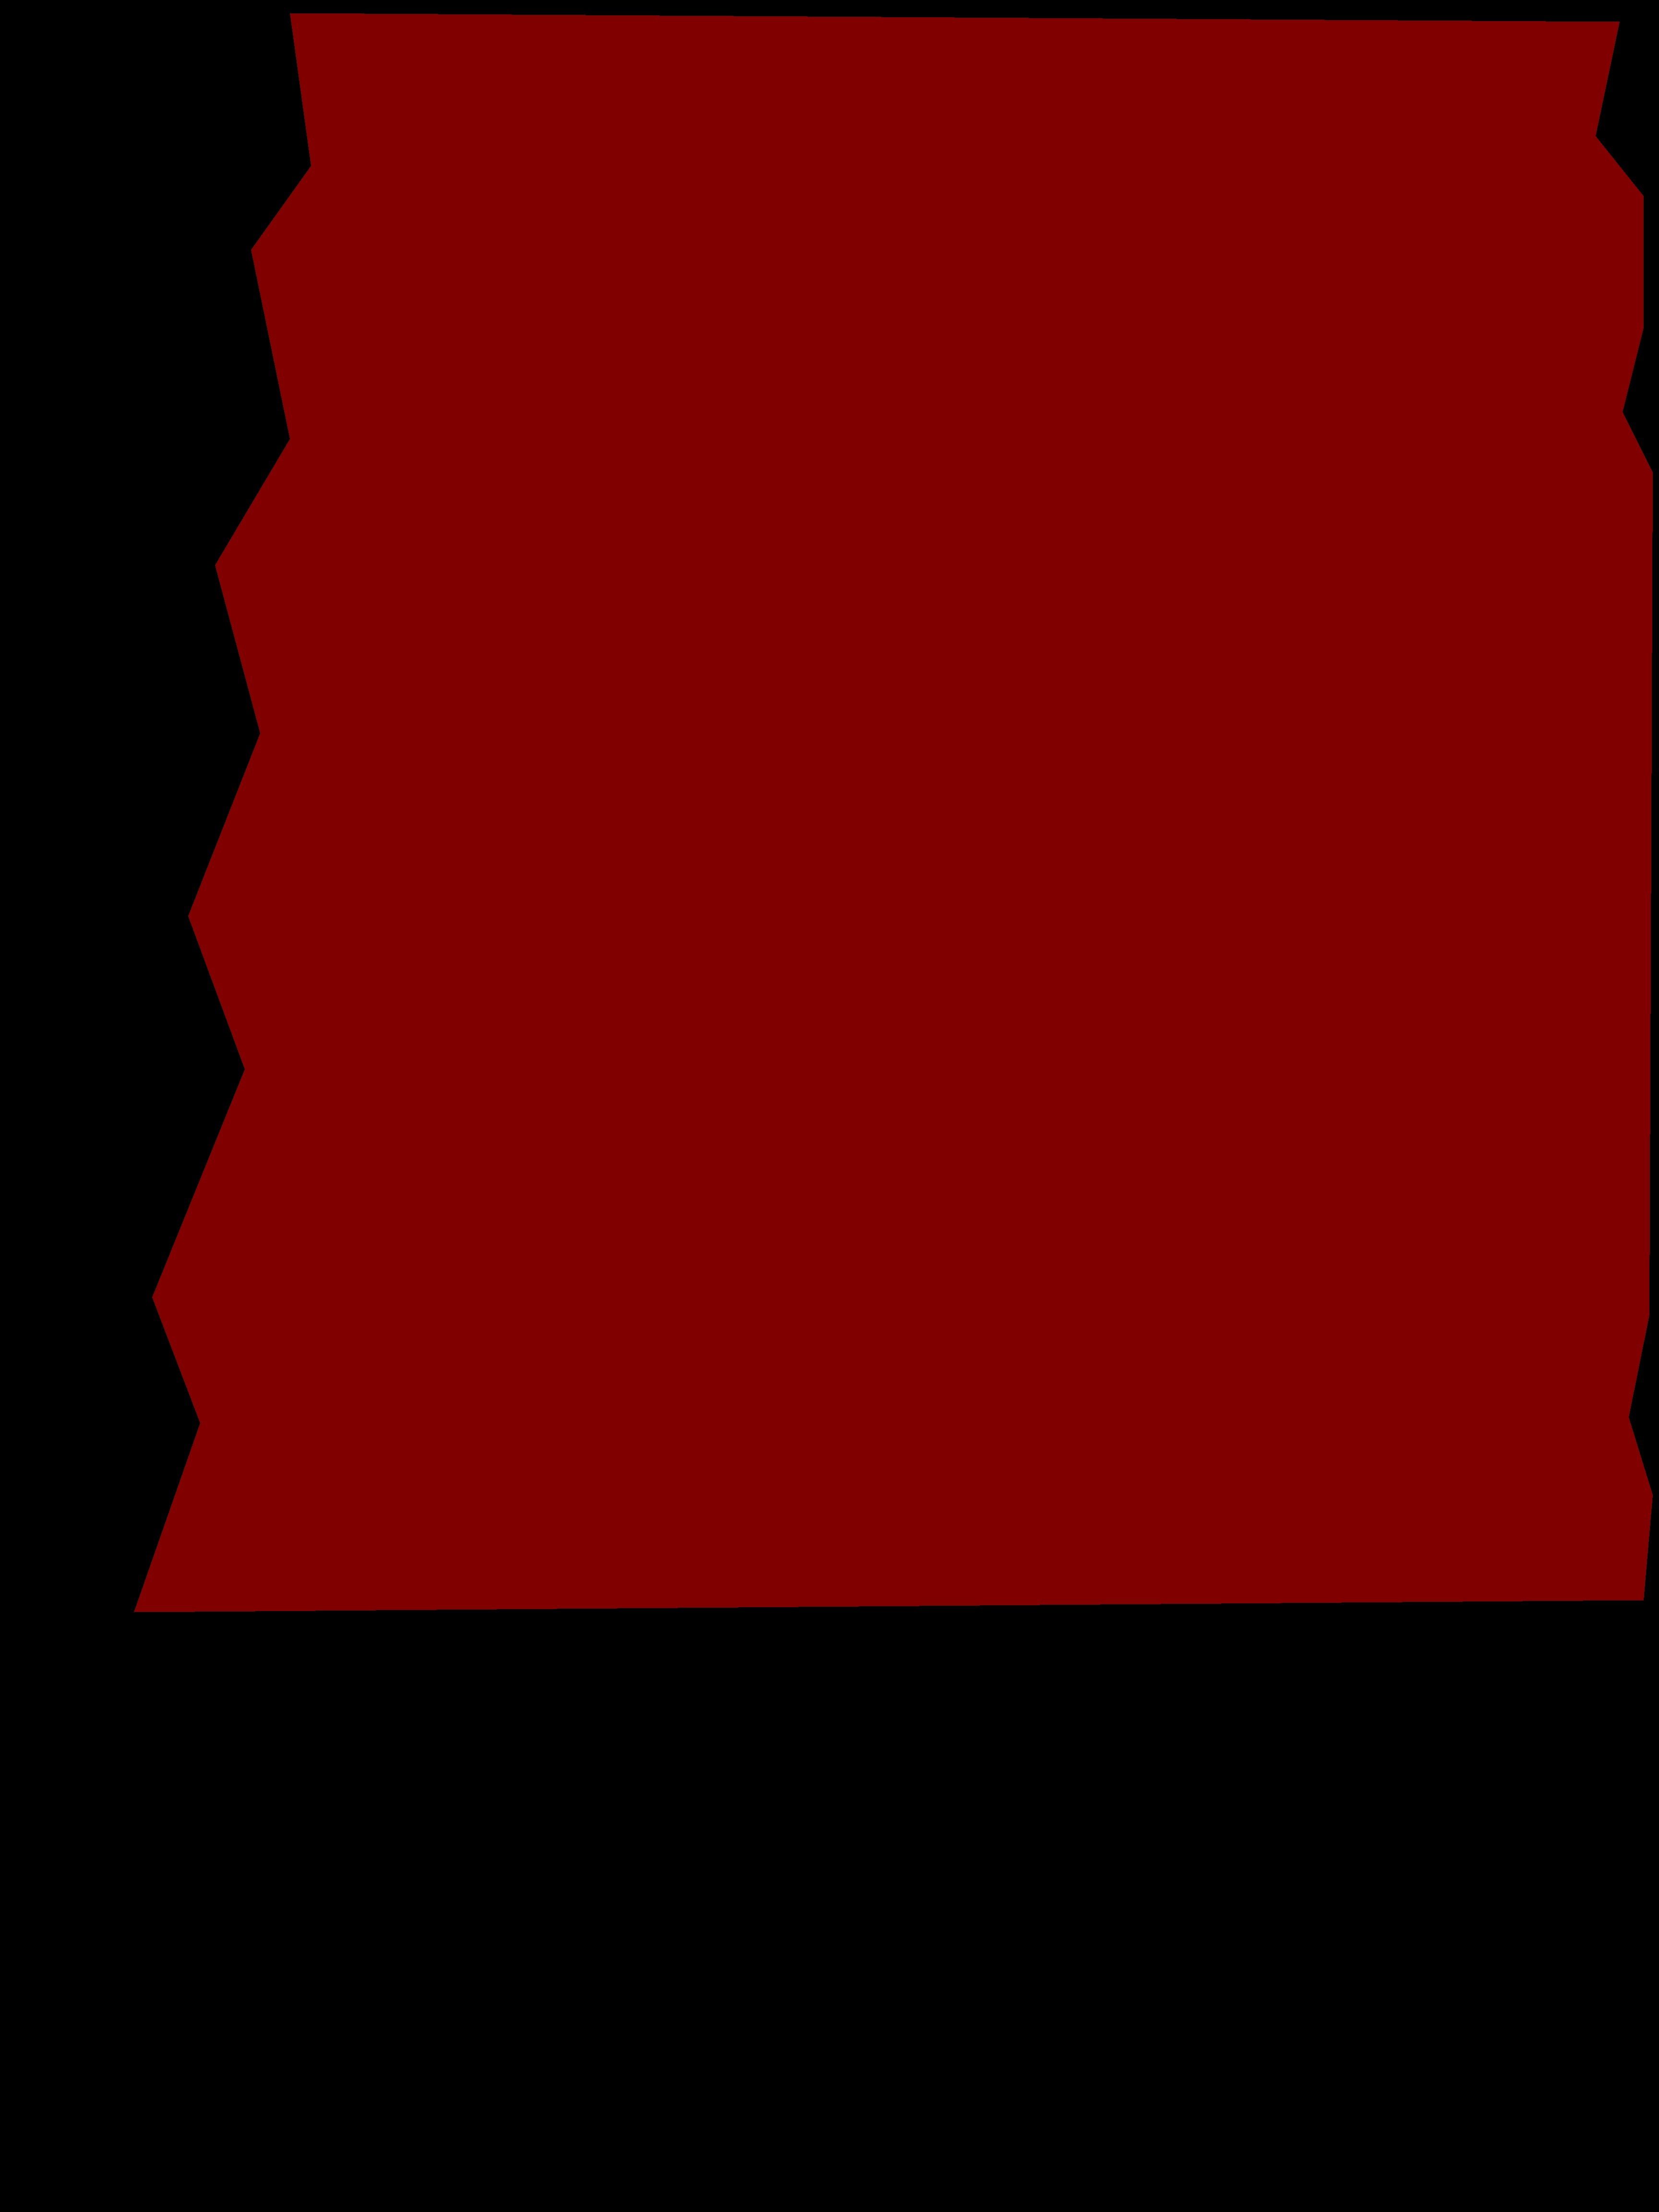stair: (134, 12, 1652, 1611)
